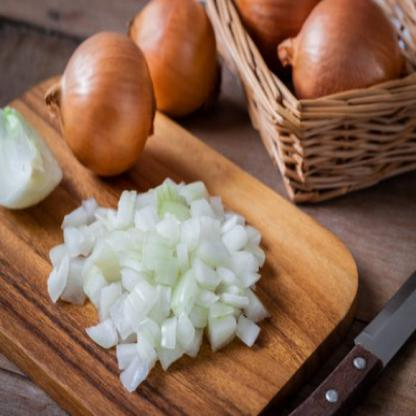onion: (78, 192, 255, 352), (50, 43, 150, 172), (286, 4, 402, 88), (139, 8, 220, 108)
